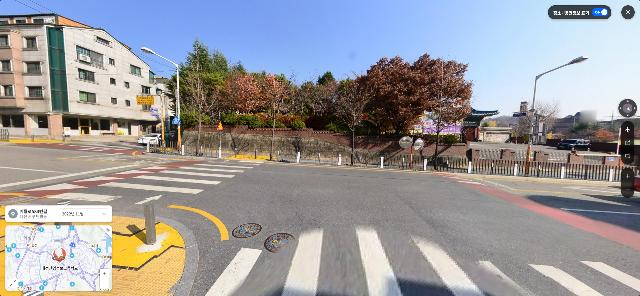other: (346, 53, 475, 137), (413, 62, 479, 171), (166, 56, 226, 157), (253, 65, 305, 161), (328, 69, 376, 166), (180, 37, 228, 124), (220, 70, 284, 115), (525, 97, 564, 145)
